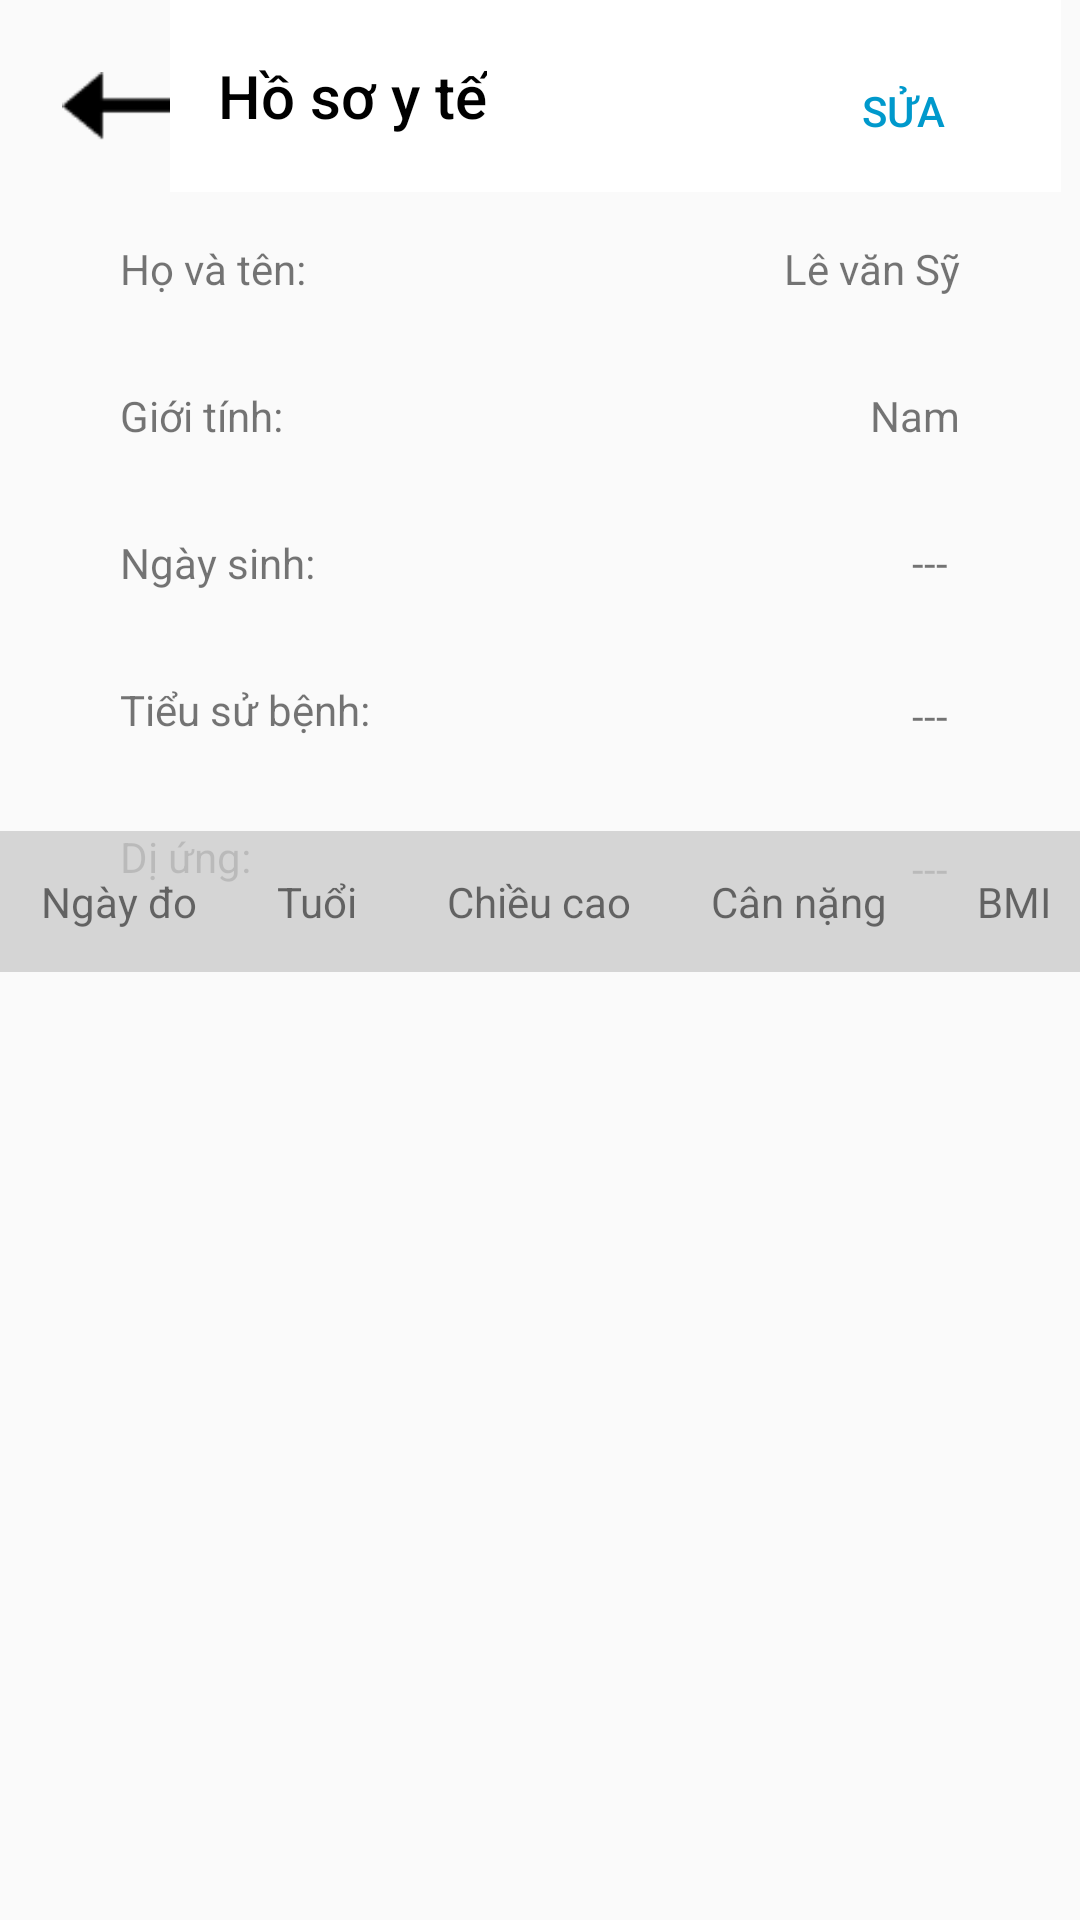

Point at icon controls on the screen. Image size 1080px×1920px, points as point (x, y).
quay lui: point (116, 105)
